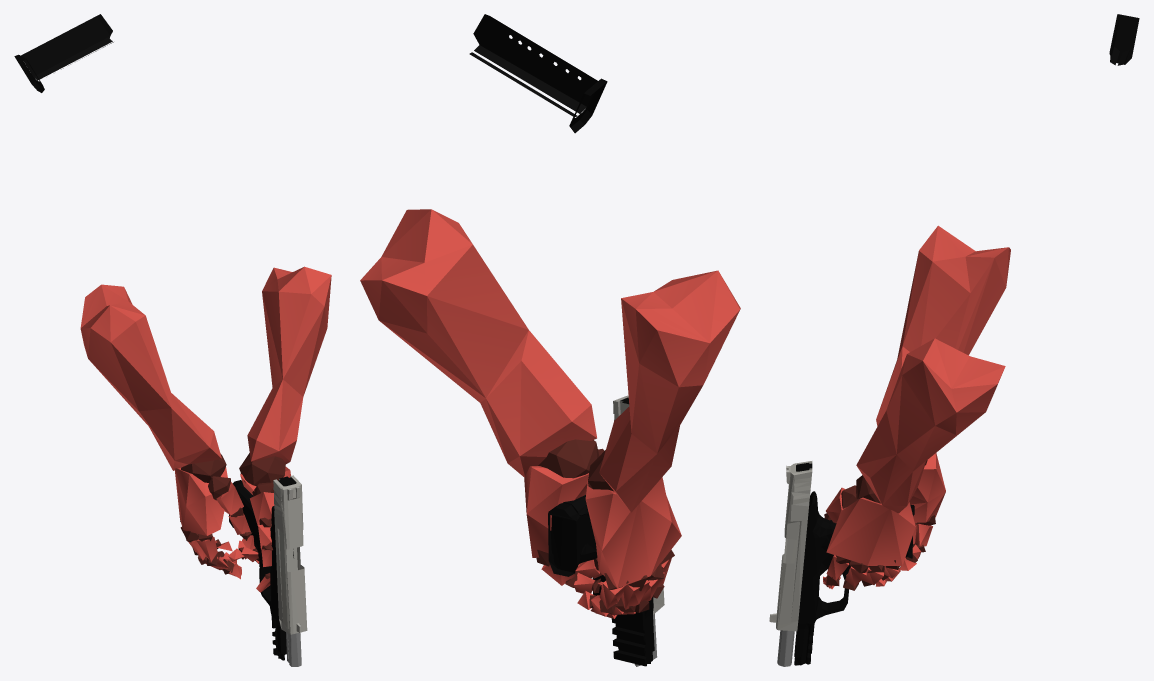
The model's file is M&P9reloadNormal1lowP_000103.obj.
3 renders of one model, left to right at view 1: azimuth 30°, elevation 25°; view 2: azimuth 150°, elevation 25°; view 3: azimuth 270°, elevation 25°, orthographic. The views are drawn at different scales.
Visible parts, largest first — view 1: Beta_Surface.001_Beta_Surface.002, slide_平面.002, Beta_Joints.001_Beta_Joints.002, magazine.002_平面.005, triger_平面.001; view 2: Beta_Surface.001_Beta_Surface.002, magazine.002_平面.005, triger_平面.001, Beta_Joints.001_Beta_Joints.002; view 3: Beta_Surface.001_Beta_Surface.002, triger_平面.001, slide_平面.002, Beta_Joints.001_Beta_Joints.002, magazine.002_平面.005.
Boxes of the visible parts, box(x1,y1,x2,y2) form: Beta_Surface.001_Beta_Surface.002: box(80, 266, 331, 592); slide_平面.002: box(273, 475, 307, 634); Beta_Joints.001_Beta_Joints.002: box(180, 453, 285, 583); magazine.002_平面.005: box(14, 14, 113, 92); triger_平面.001: box(232, 480, 301, 666); Beta_Surface.001_Beta_Surface.002: box(360, 209, 740, 618); magazine.002_平面.005: box(469, 14, 607, 133); triger_平面.001: box(548, 495, 657, 666); Beta_Joints.001_Beta_Joints.002: box(536, 439, 674, 615); Beta_Surface.001_Beta_Surface.002: box(823, 225, 1010, 589); triger_平面.001: box(777, 491, 914, 666); slide_平面.002: box(769, 461, 812, 631); Beta_Joints.001_Beta_Joints.002: box(823, 460, 935, 590); magazine.002_平面.005: box(1109, 14, 1139, 65).
Size of the model in its own units: 56.97 by 123 by 67.54.
